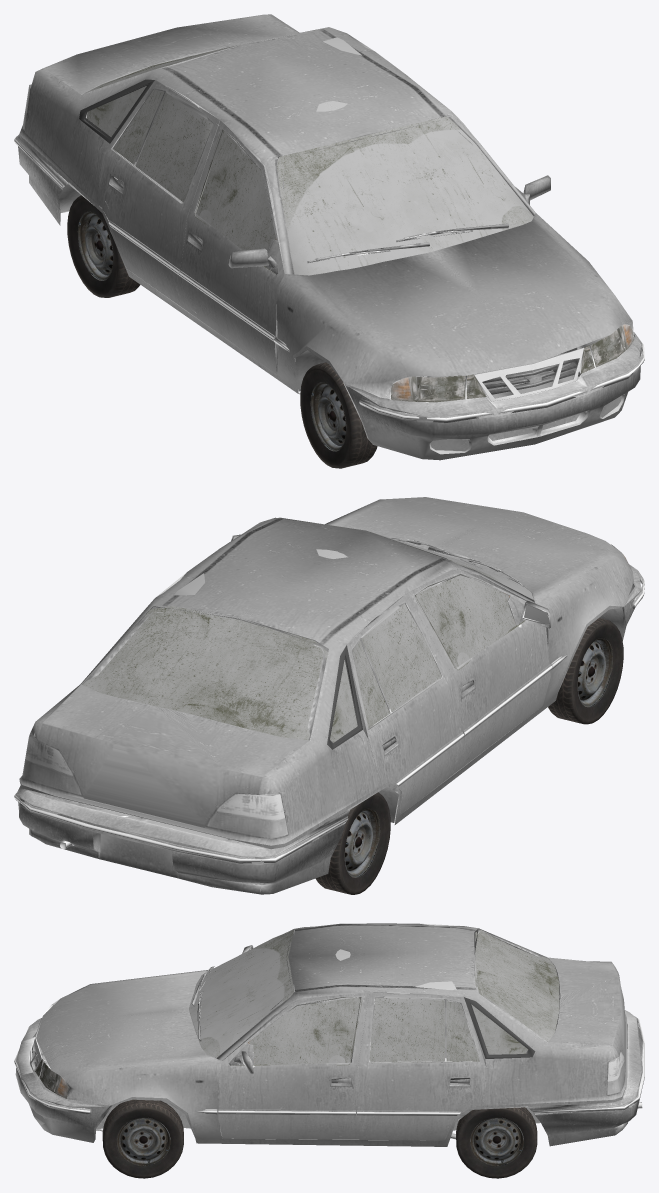
The model's file is v_nexia_hd.glb.
3 views of the same model, one above another, from view 1: azimuth 30°, elevation 25°; view 2: azimuth 150°, elevation 25°; view 3: azimuth 270°, elevation 25° (orthographic). The views are drawn at different scales.
Parts seen in each view (by area): view 1: Plane.002_Low, Plane.054, Tire_Low.002, Tire_Low.004, Plane.001; view 2: Plane.002_Low, Plane.054, Tire_Low.002, Tire_Low.004; view 3: Plane.002_Low, Plane.054, Tire_Low.003, Tire_Low.001, Plane.001.
Part boxes in pixels (bbox=[...]): Plane.002_Low: bbox=[14, 14, 644, 460]; Plane.054: bbox=[84, 29, 533, 275]; Tire_Low.002: bbox=[300, 362, 377, 468]; Tire_Low.004: bbox=[67, 195, 140, 297]; Plane.001: bbox=[391, 324, 633, 402]; Plane.002_Low: bbox=[14, 497, 644, 894]; Plane.054: bbox=[82, 517, 533, 742]; Tire_Low.002: bbox=[548, 618, 623, 724]; Tire_Low.004: bbox=[315, 792, 390, 894]; Plane.002_Low: bbox=[14, 923, 644, 1146]; Plane.054: bbox=[189, 929, 559, 1058]; Tire_Low.003: bbox=[102, 1099, 183, 1178]; Tire_Low.001: bbox=[456, 1107, 537, 1178]; Plane.001: bbox=[35, 1059, 68, 1098].
Size of the model in its own units: 1.85 by 1.29 by 4.14.
Materials: 3 (3 with a texture image).
